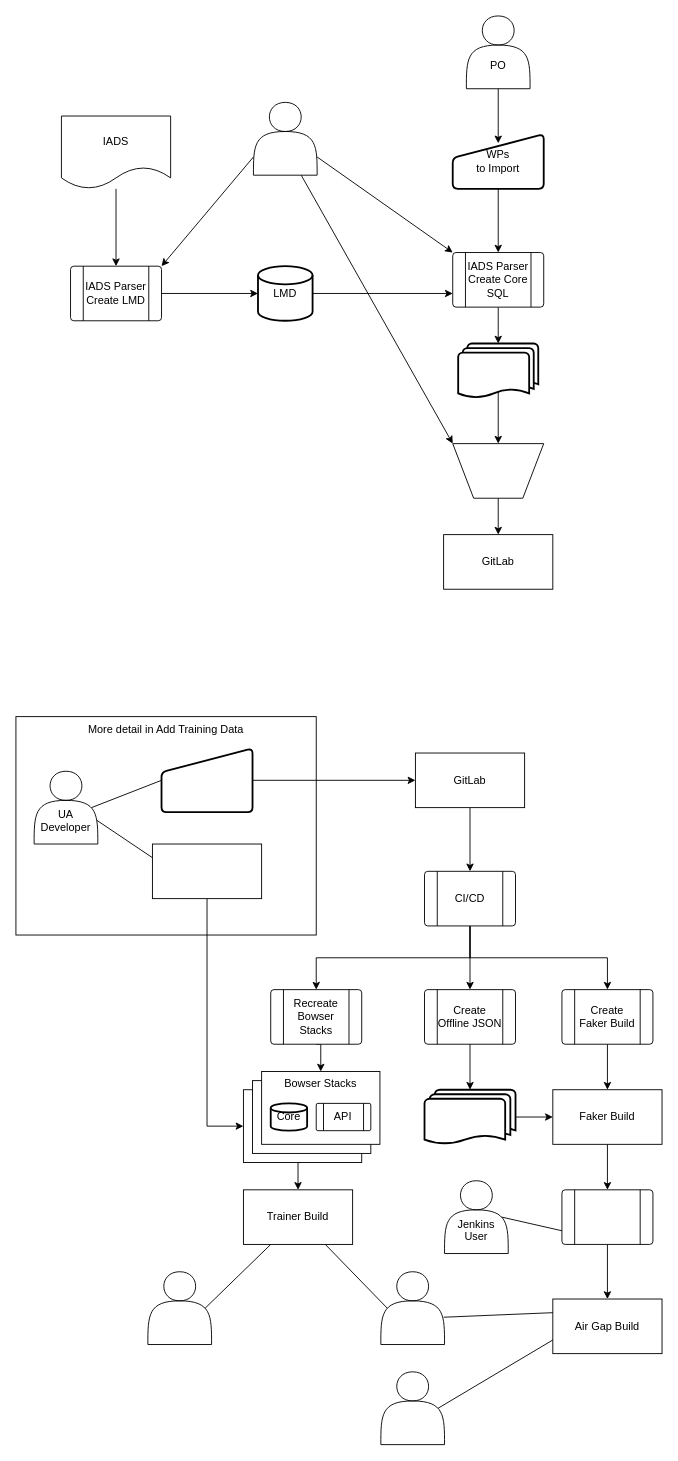
This 678x1461 diagram has some shape labels left out. The box of each missing label's shape, as (x1, y1, x2, y2) in pixels:
Commit Core SQL Commands: (452, 443, 544, 498)
Core SQL: (457, 342, 539, 399)
Jenkins Create AirGap: (561, 1189, 653, 1244)
Offline JSON: (423, 1088, 516, 1145)
Product Owner: (380, 1271, 445, 1345)
Quality & PO: (380, 1371, 445, 1445)
S&T Developer: (253, 101, 317, 175)
Trainer in Edit Mode: (152, 843, 262, 899)
UA Developer (QA): (147, 1271, 212, 1345)
Write Stored Procedures: (160, 747, 253, 813)
